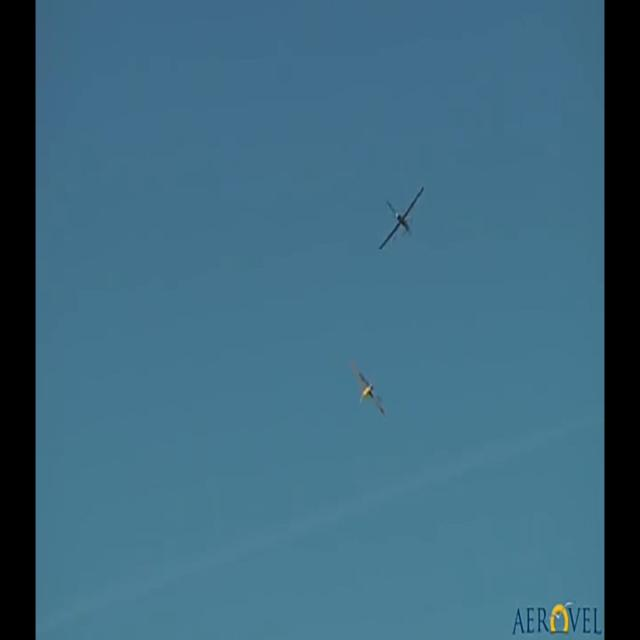iha: (350, 360, 386, 418), (379, 216, 424, 218)
